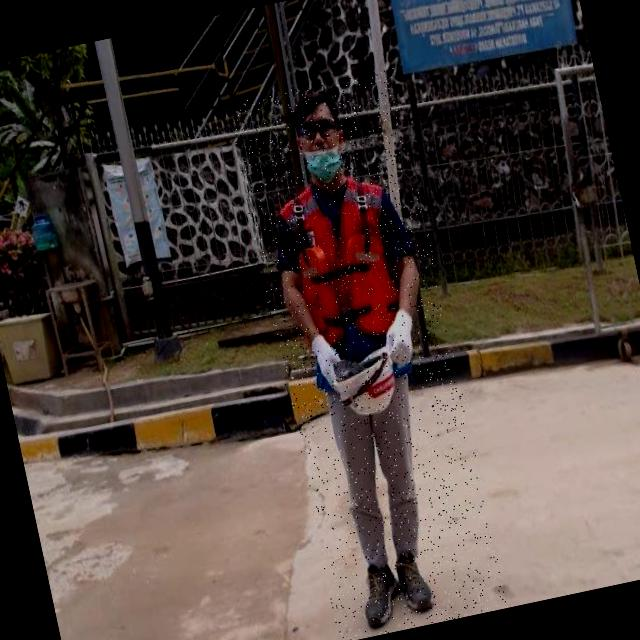gloves: (371, 296, 435, 370), (292, 312, 348, 394)
helmet: (328, 342, 402, 422)
no-boots: (351, 554, 408, 632), (392, 546, 438, 618)
no-helmet: (279, 86, 360, 194)
vest: (273, 170, 419, 393)
